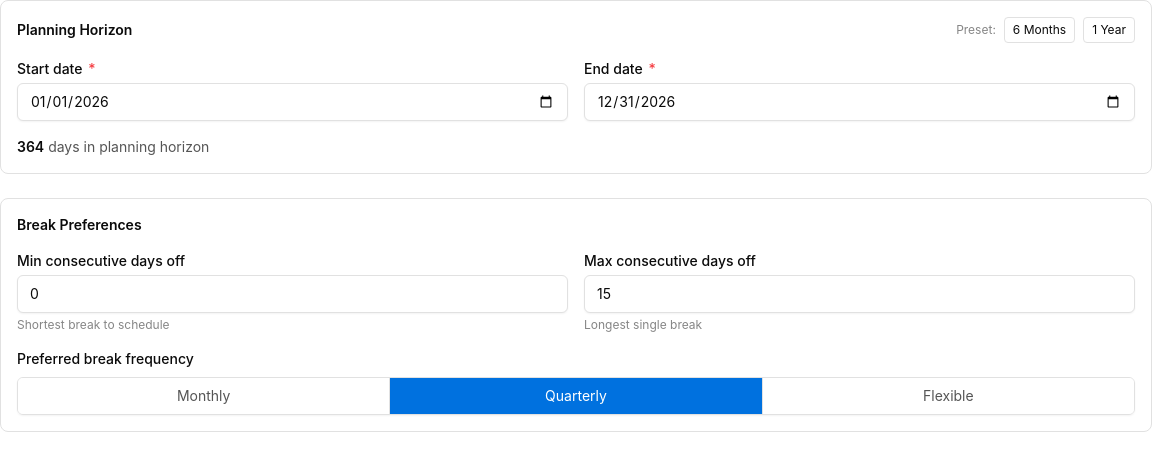
Test: PreferencesForm › min/max days validation › shows error for min days < 1
This screenshot has width=1152, height=469.
Click the number field labelled "Min consecutive days off".
click(292, 294)  # box [17, 275, 568, 313]
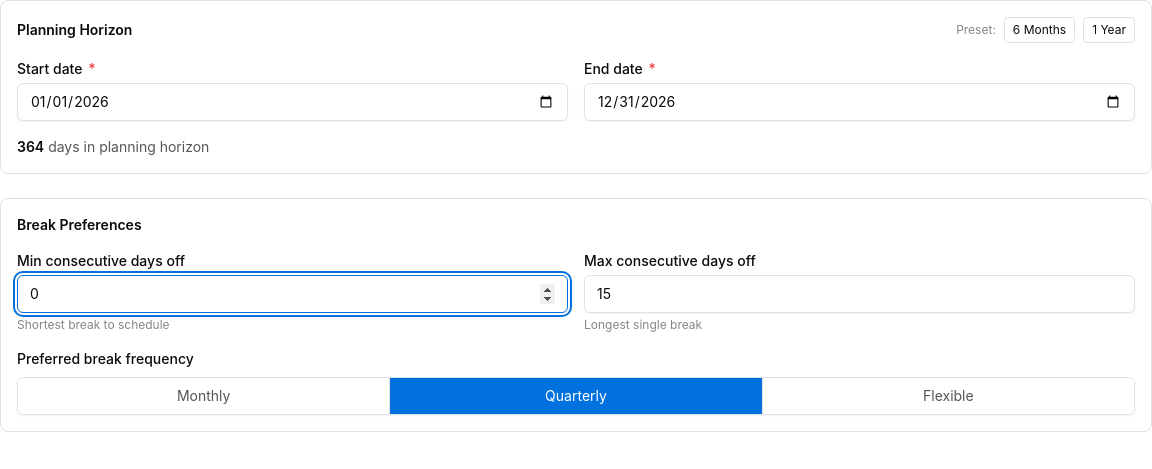
Press Tab
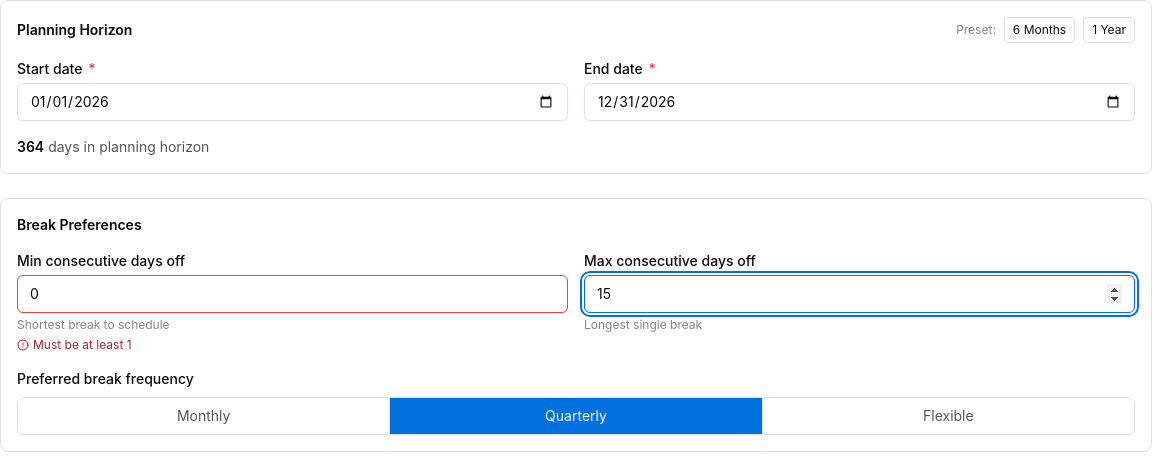
Result: the text "Must be at least 1" is shown at [17, 337, 132, 352]
